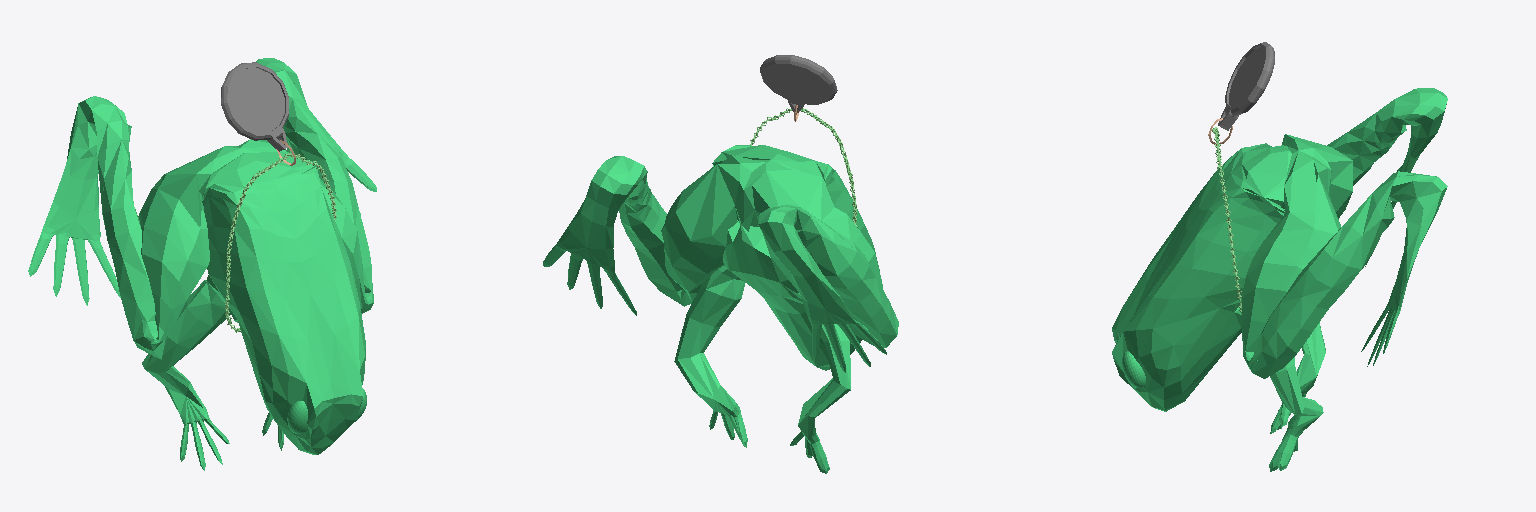
File: grenouille.obj
3 views of the same model, side by side, from view 1: azimuth 30°, elevation 25°; view 2: azimuth 150°, elevation 25°; view 3: azimuth 270°, elevation 25° (orthographic).
Parts seen in each view (by area): view 1: k, Cylinder001, Torus118; view 2: k, Cylinder001, Torus118; view 3: k, Cylinder001, Torus118.
Part boxes in pixels (x1,y1,x2,y2): k: (28, 58, 376, 470); Cylinder001: (221, 62, 288, 151); Torus118: (225, 153, 336, 332); k: (543, 145, 898, 473); Cylinder001: (760, 55, 837, 112); Torus118: (750, 108, 857, 227); k: (1112, 88, 1447, 471); Cylinder001: (1218, 42, 1274, 130); Torus118: (1212, 127, 1241, 313).
Size of the model in its own units: 24.35 by 26.99 by 20.5.